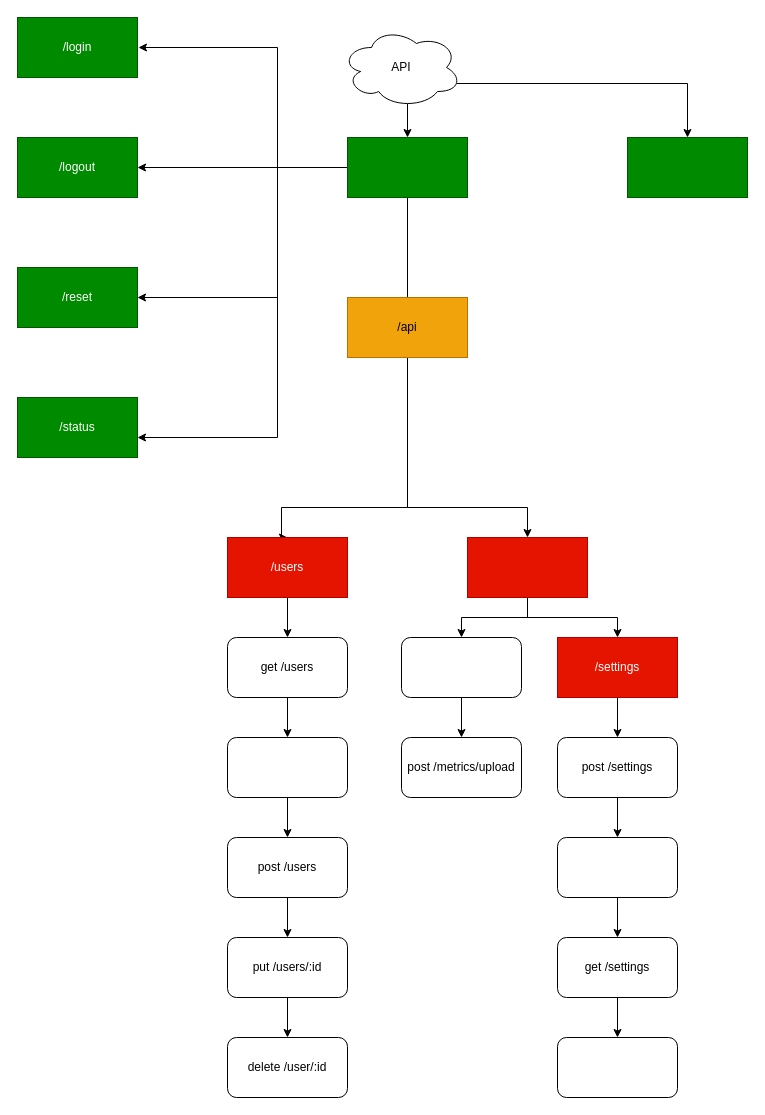
The diagram is 765 pixels wide and 1115 high, and some of its shapes have lost their labels. Here are the shapes that lost their labels. From the top down, the centre of each, then its label:
At point 407,167: "/auth".
At point 687,167: "/api-docs".
At point 527,567: "/metrics".
At point 461,667: "post /metrics".
At point 287,767: "get /users/:id".
At point 617,867: "put /settings".
At point 617,1067: "delet /settings".
